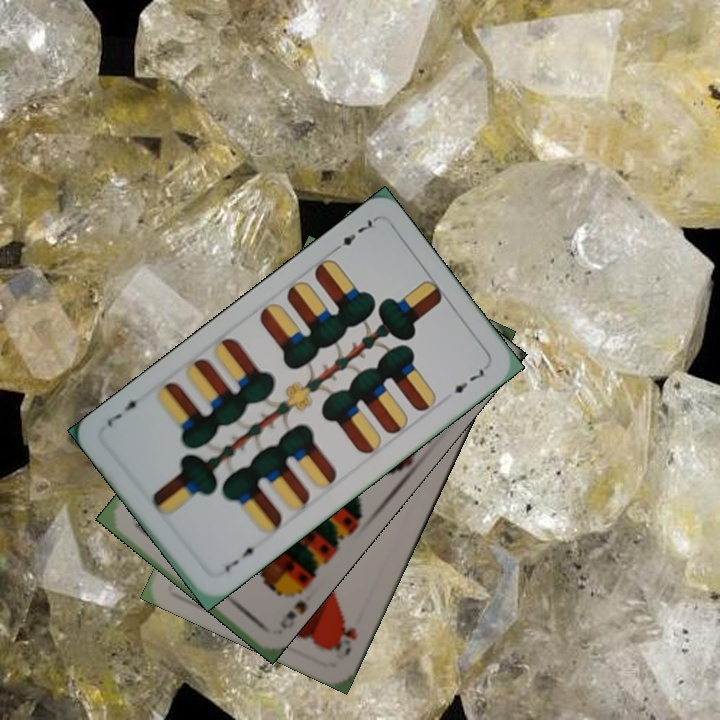E7: (327, 215, 378, 256), (220, 541, 263, 575)
HO: (327, 615, 360, 660)
S9: (275, 578, 310, 632)
